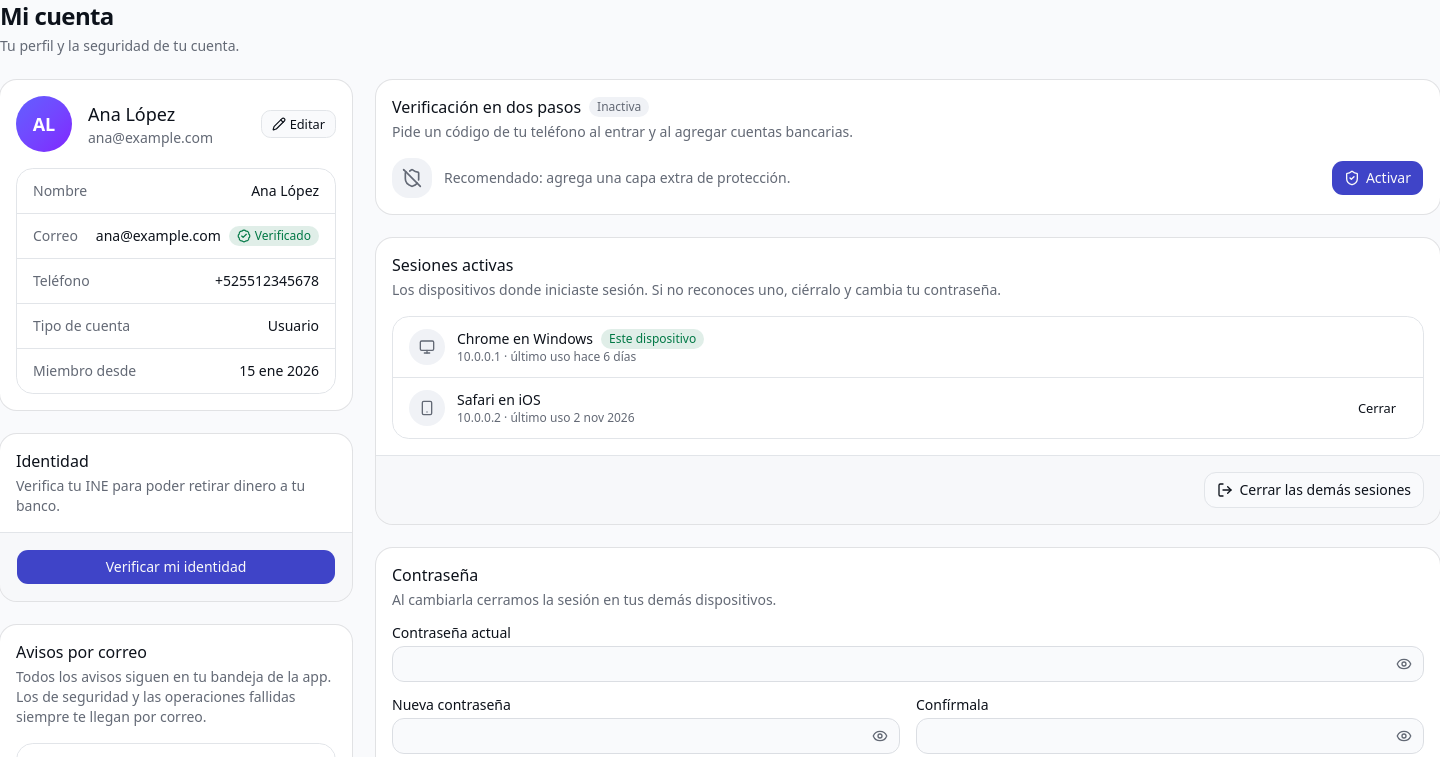
Test: SettingsPage › profile › edits the name and phone, checking the phone format first
Click the button "Editar" at (298, 124), box [261,110,336,138]
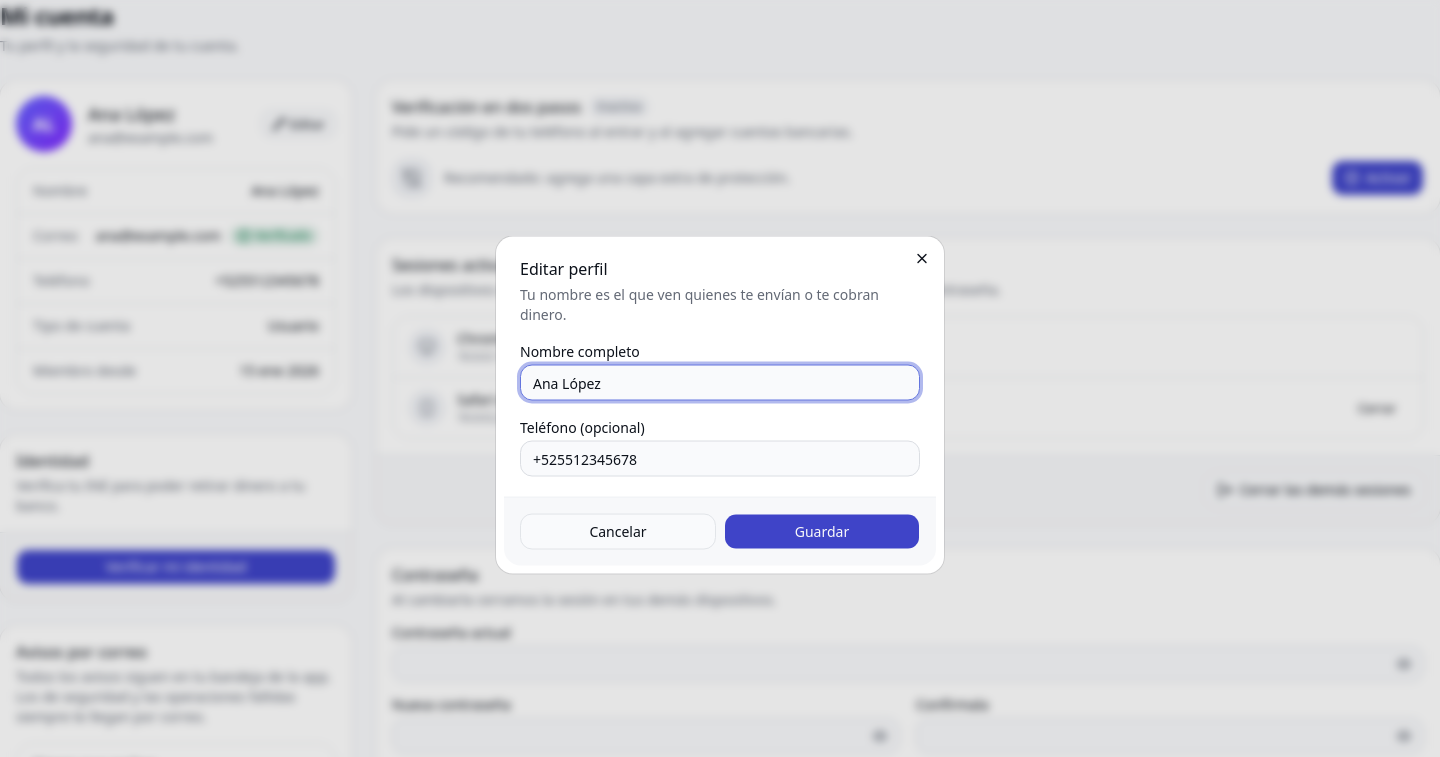
Replace the text in the field labelled "Teléfono (opcional)" with "5512345678" at (720, 458), box [520,440,920,476]
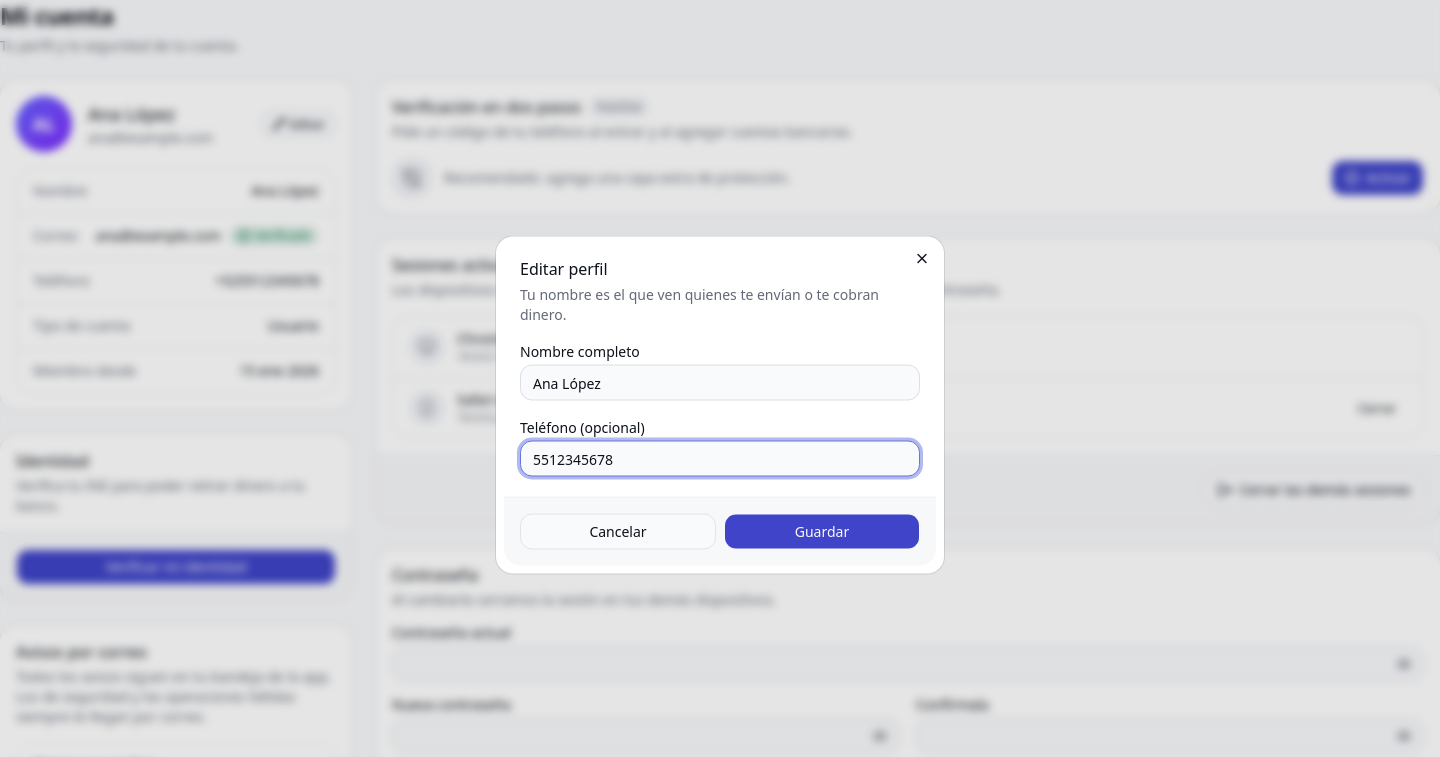
Click the button "Guardar" at (822, 532), box [724,514,920,550]
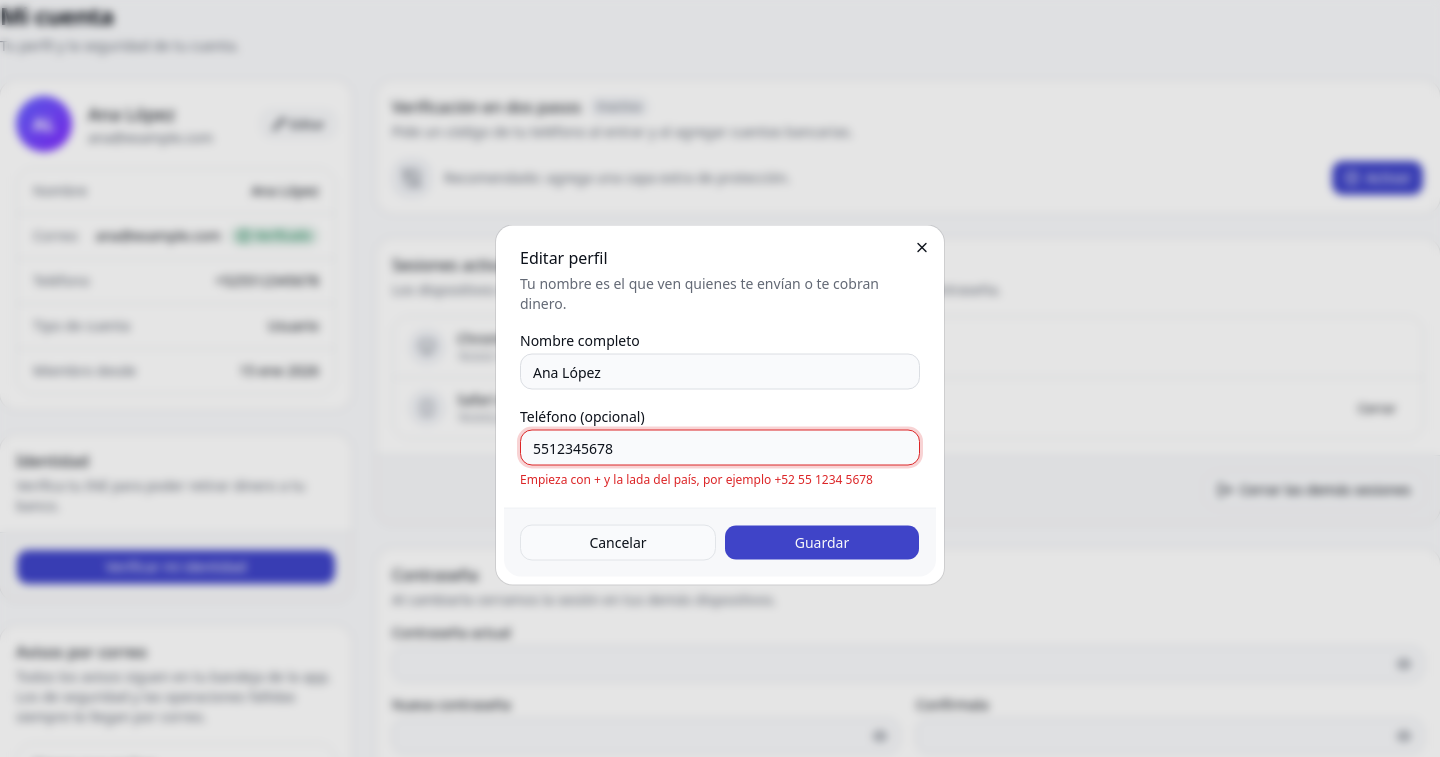
Expected: the text "Empieza con + y la lada" is shown, [520,470,873,488]
Clear the field labelled "Teléfono (opcional)" at (720, 448), box [520,430,920,466]
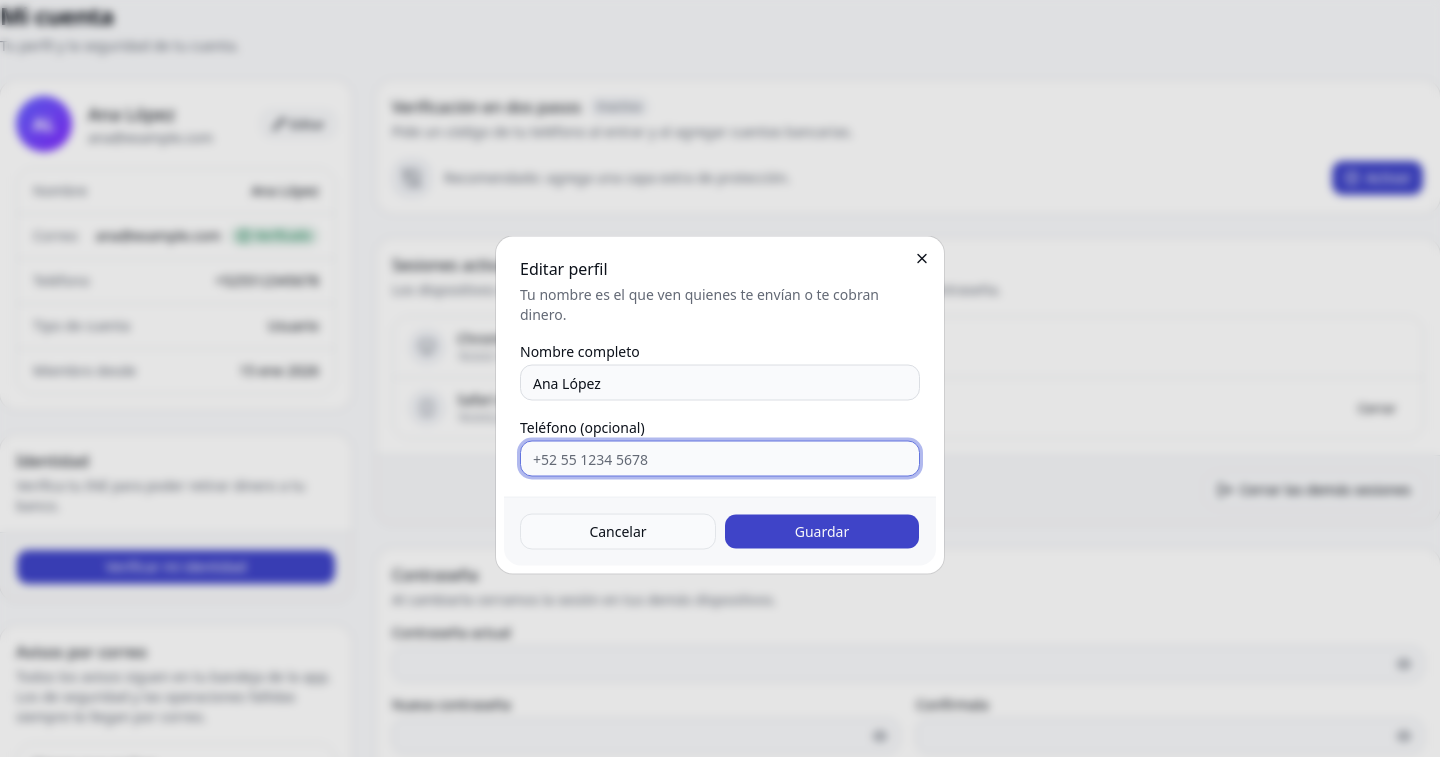
Type "+52 55 8765 4321" into the field labelled "Teléfono (opcional)" at (720, 458), box [520,440,920,476]
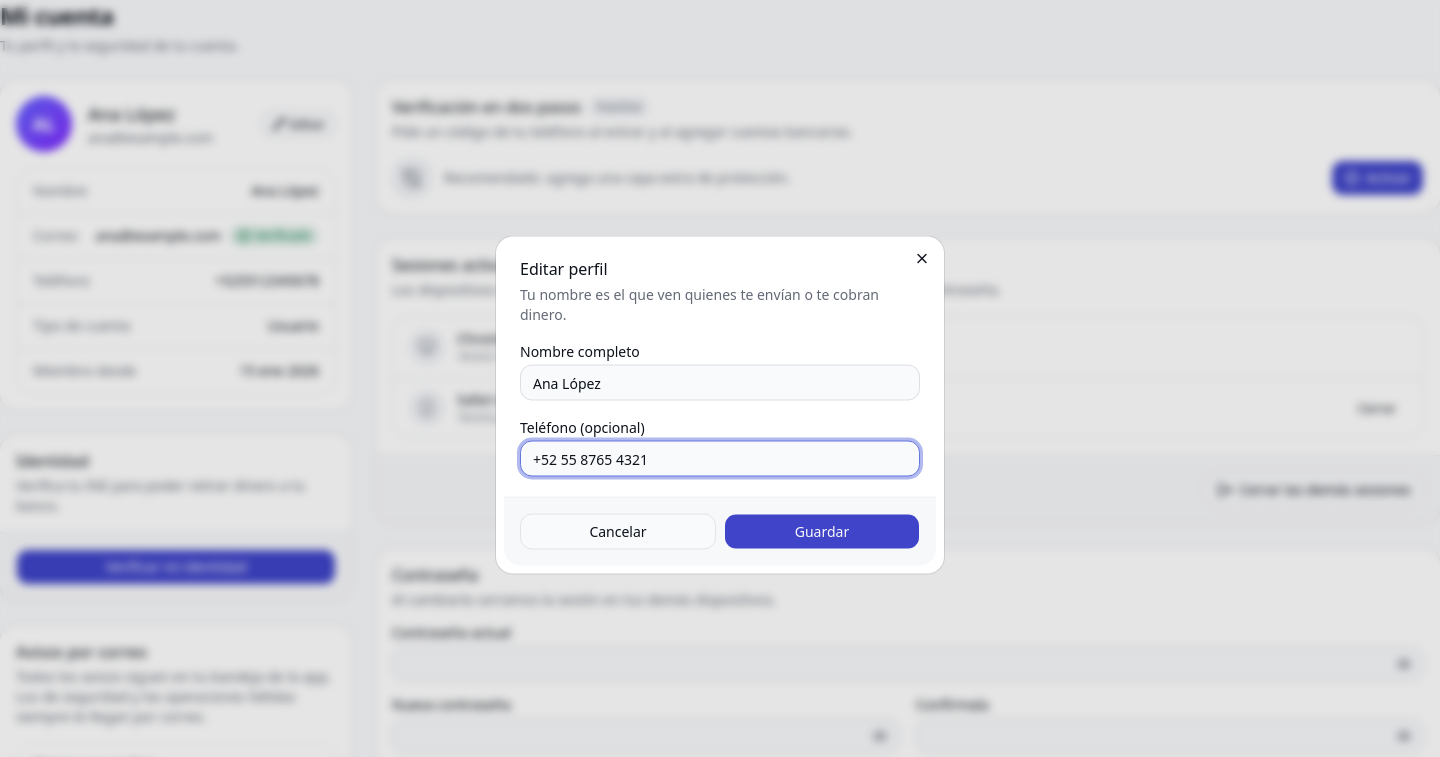
Click the button "Guardar" at (822, 532), box [724,514,920,550]
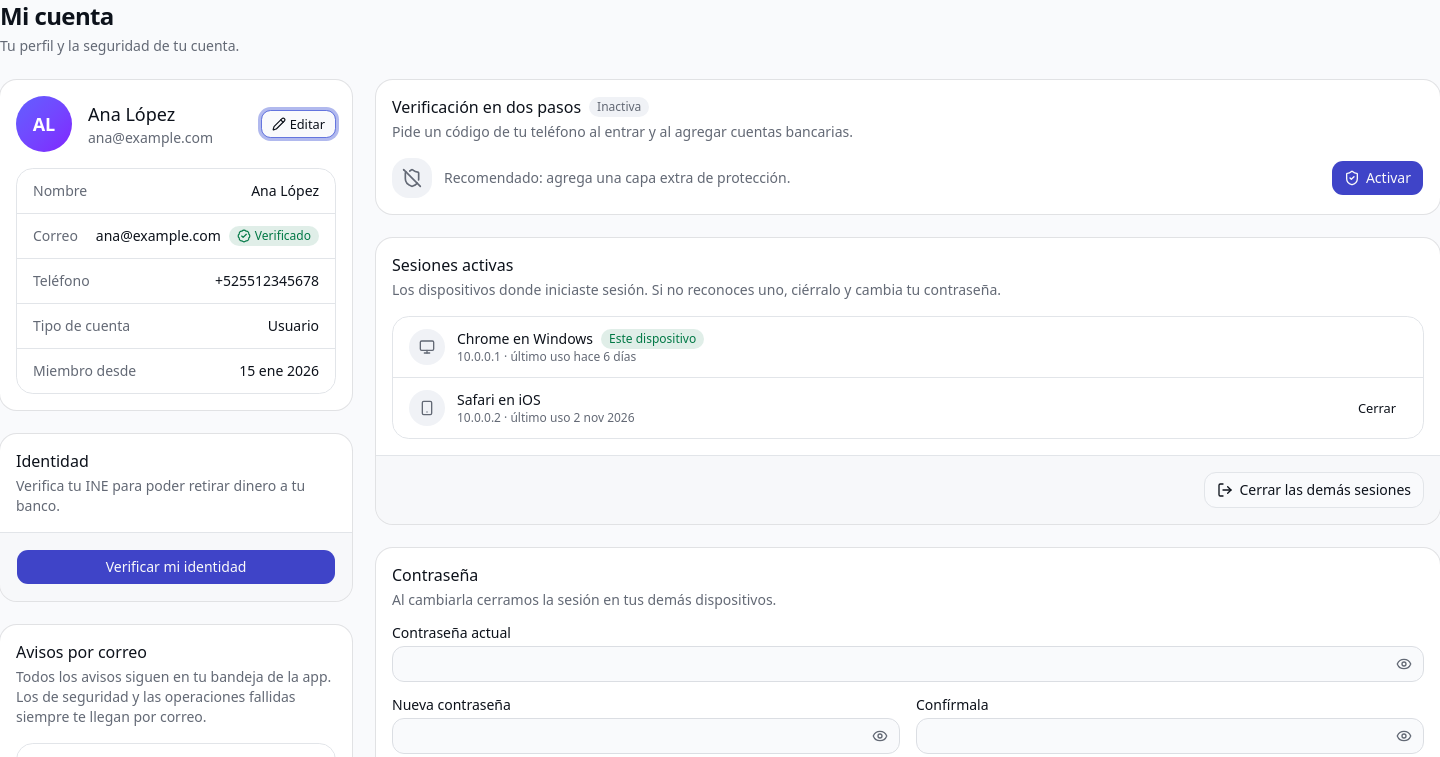
Expected: the dialog is gone
